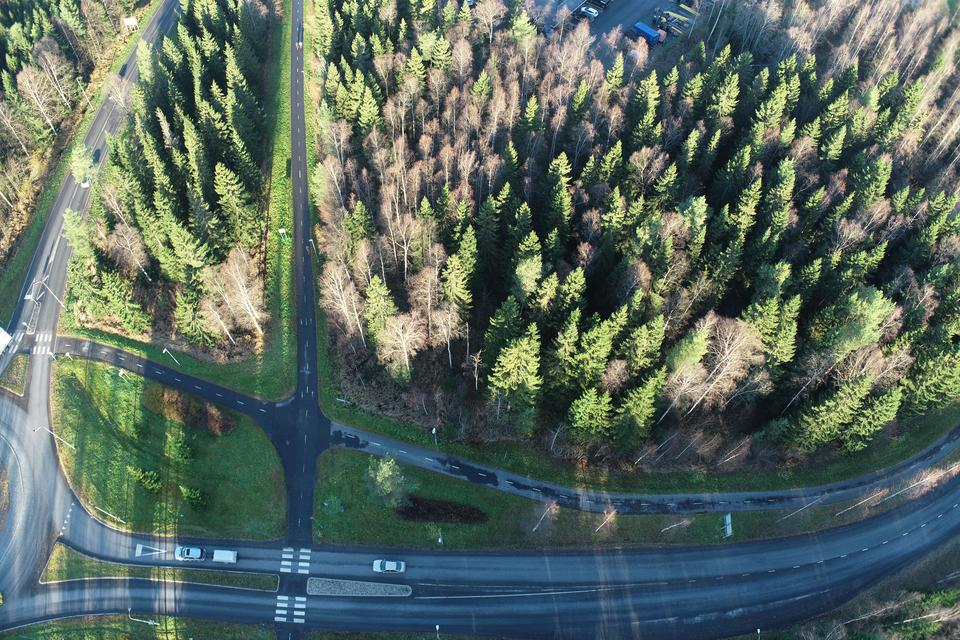intersection: (259, 524, 339, 640), (0, 307, 87, 373)
roundabout: (0, 381, 115, 640)
